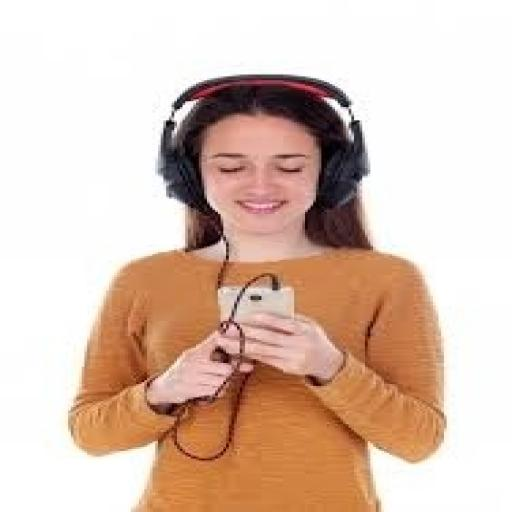listening_to_music: (65, 73, 452, 510)
